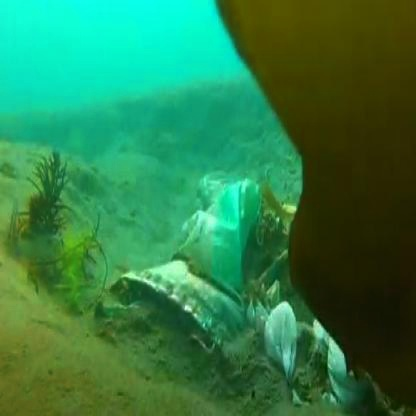plastic: (154, 171, 316, 381)
